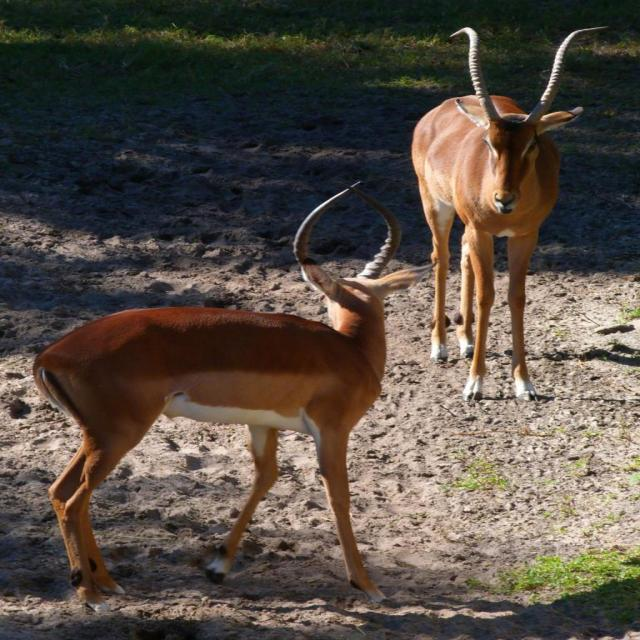Deer: (32, 182, 439, 612), (408, 27, 611, 402)
